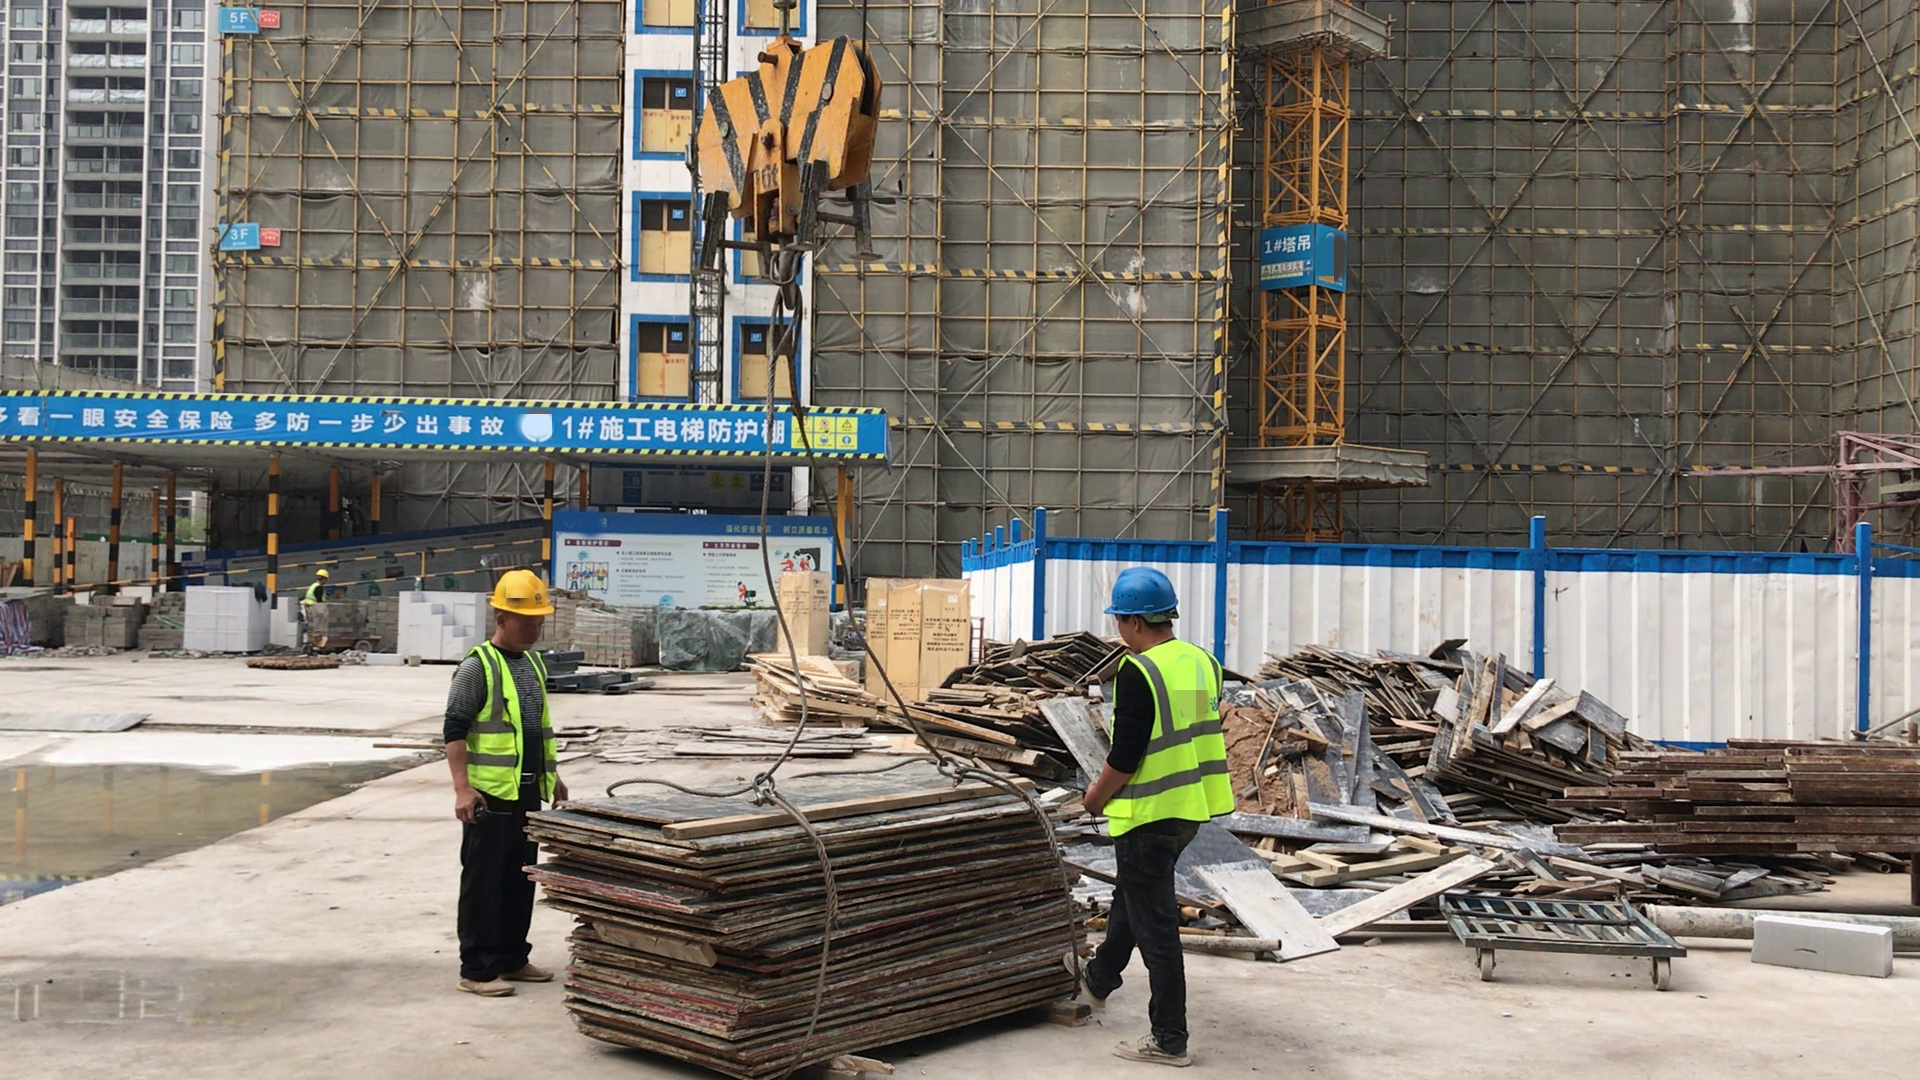board: (521, 765, 1094, 1077)
brick: (182, 583, 298, 658), (394, 588, 484, 661)
helmet: (1104, 564, 1183, 617), (486, 569, 555, 617), (315, 570, 329, 579)
hook: (684, 36, 888, 310)
person: (1082, 567, 1232, 1079), (447, 568, 573, 1000), (304, 569, 340, 604)
slogan: (2, 402, 509, 436), (785, 410, 862, 457), (1260, 260, 1312, 284)
vest: (1107, 639, 1233, 835), (455, 639, 560, 809), (306, 582, 324, 604)
